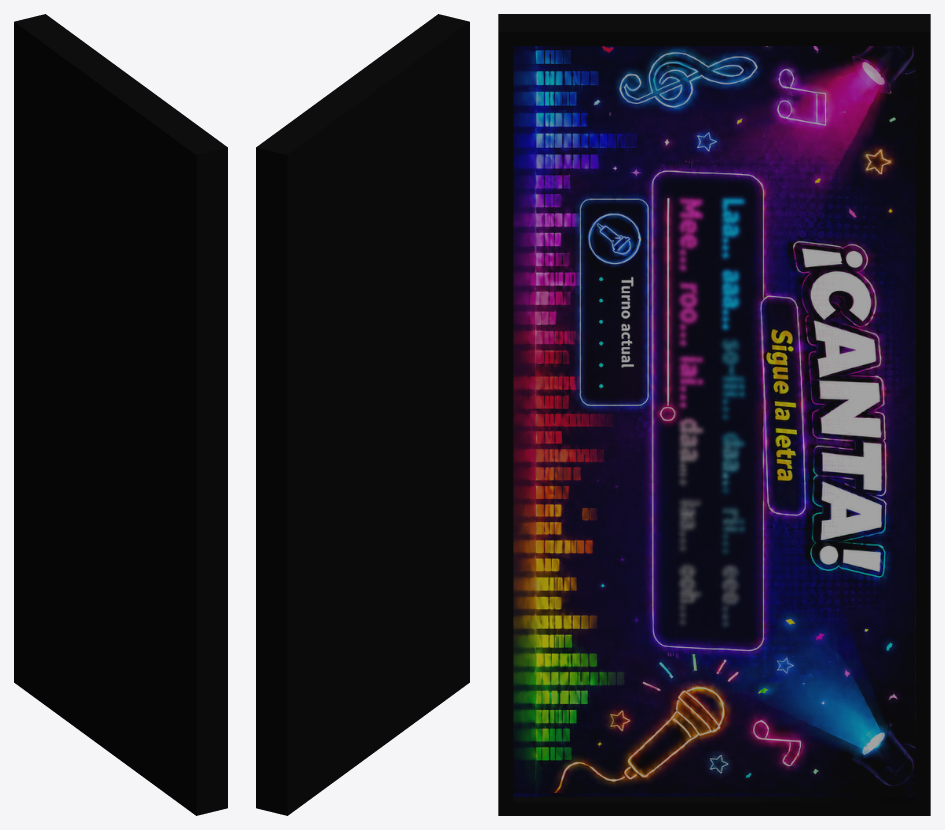
The model's file is PantallaKaraoke3.obj.
3 renders of one model, left to right at view 1: azimuth 30°, elevation 25°; view 2: azimuth 150°, elevation 25°; view 3: azimuth 270°, elevation 25°, orthographic. The views are drawn at different scales.
Visible parts, largest first — view 1: ColumDerS1.001; view 2: ColumDerS1.001; view 3: ColumDerS1.001.
Boxes of the visible parts, box(x1,y1,x2,y2) form: ColumDerS1.001: box(14, 14, 227, 815); ColumDerS1.001: box(256, 14, 469, 815); ColumDerS1.001: box(498, 14, 930, 815).
Bounding box in the file's own units: 0.2 × 4 × 2.
